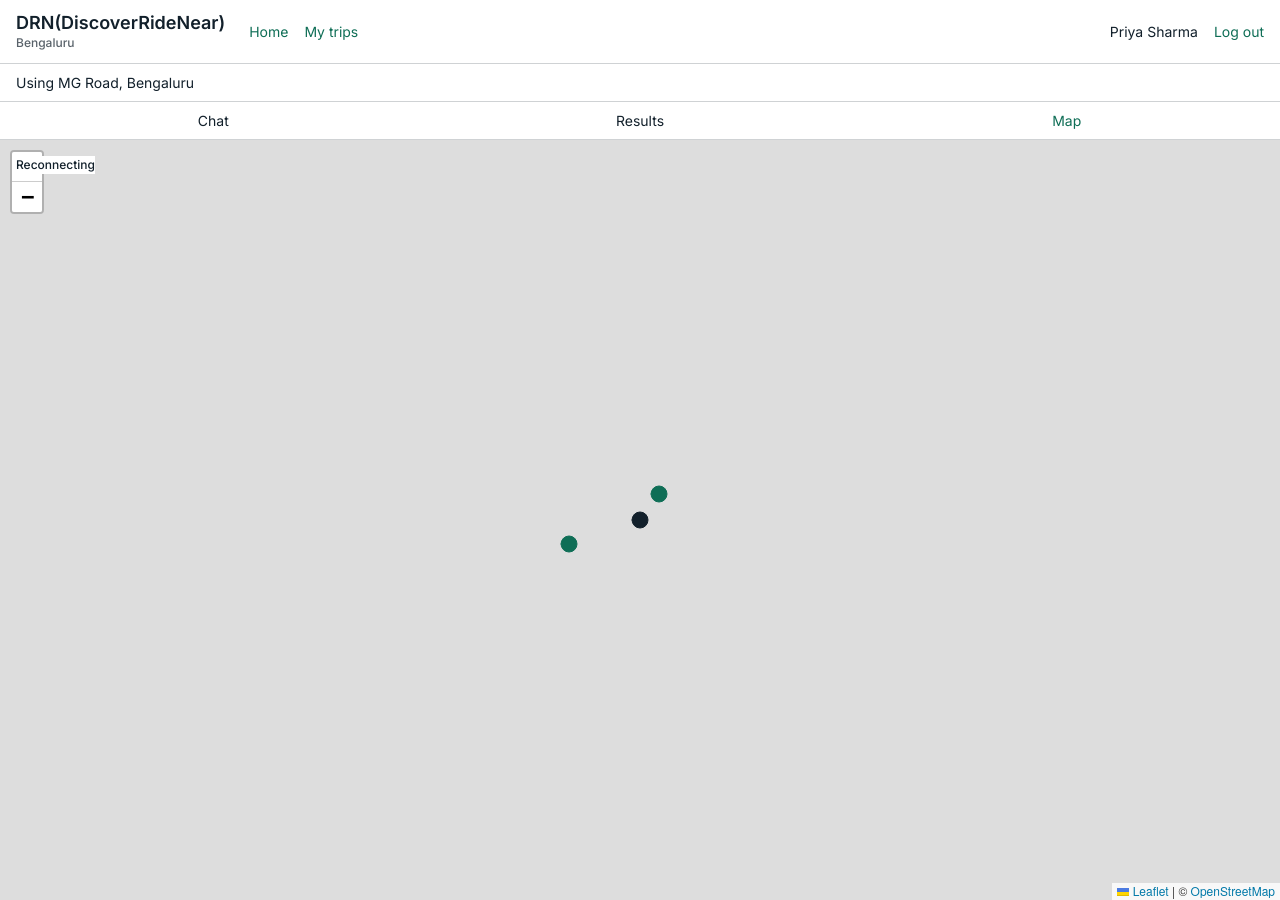
home map › shows Chat, Results, and Map tabs on a narrow screen with Map first
Click the tab "Results": (640, 120) left=427, top=102, right=853, bottom=139
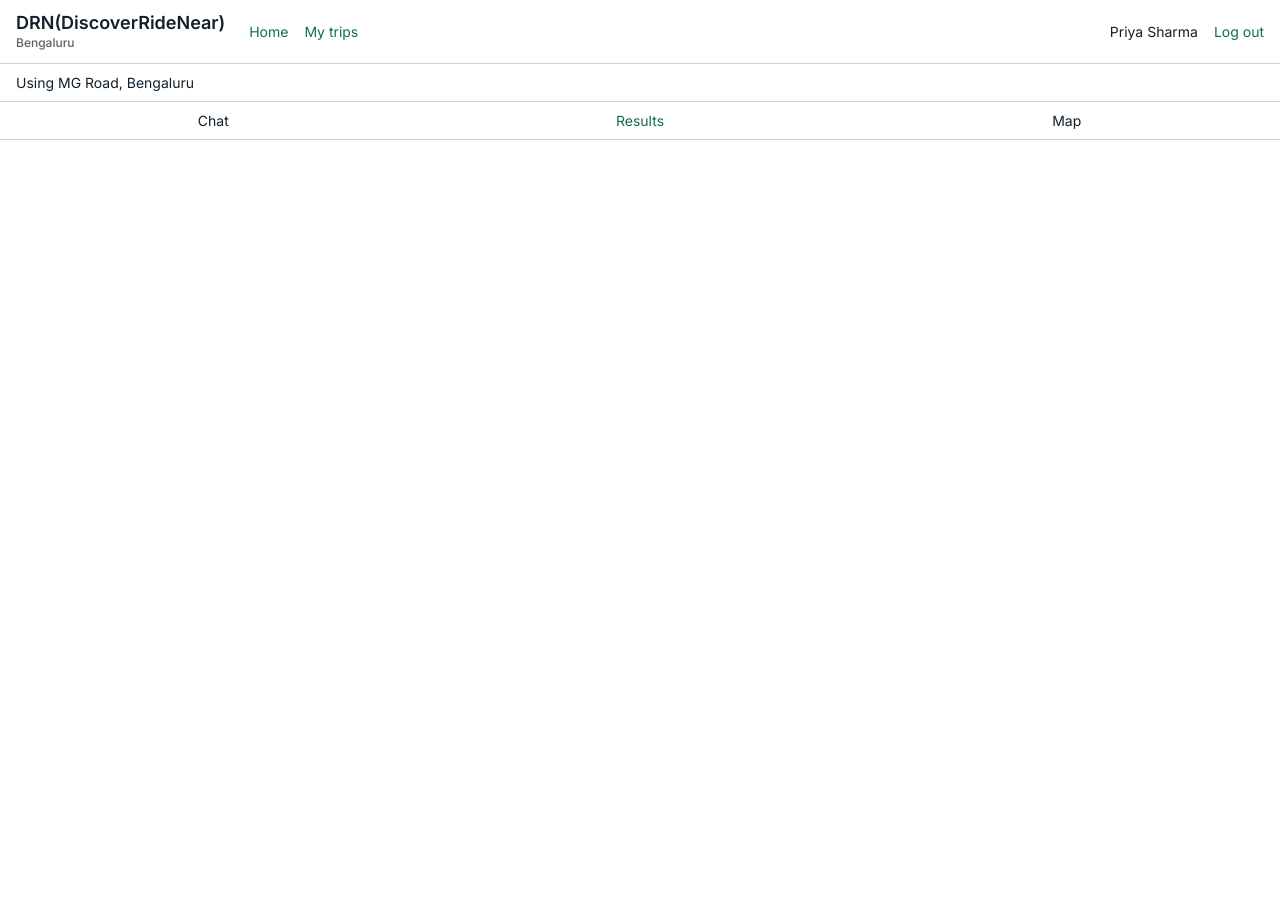
Expected: the list with test id "results-list" shows "2022 Hyundai Creta"
Expected: the list with test id "results-list" shows "₹2800/day"
Expected: the list with test id "results-list" shows "1.2 km"
Click the tab "Chat": (213, 120) left=0, top=102, right=427, bottom=139
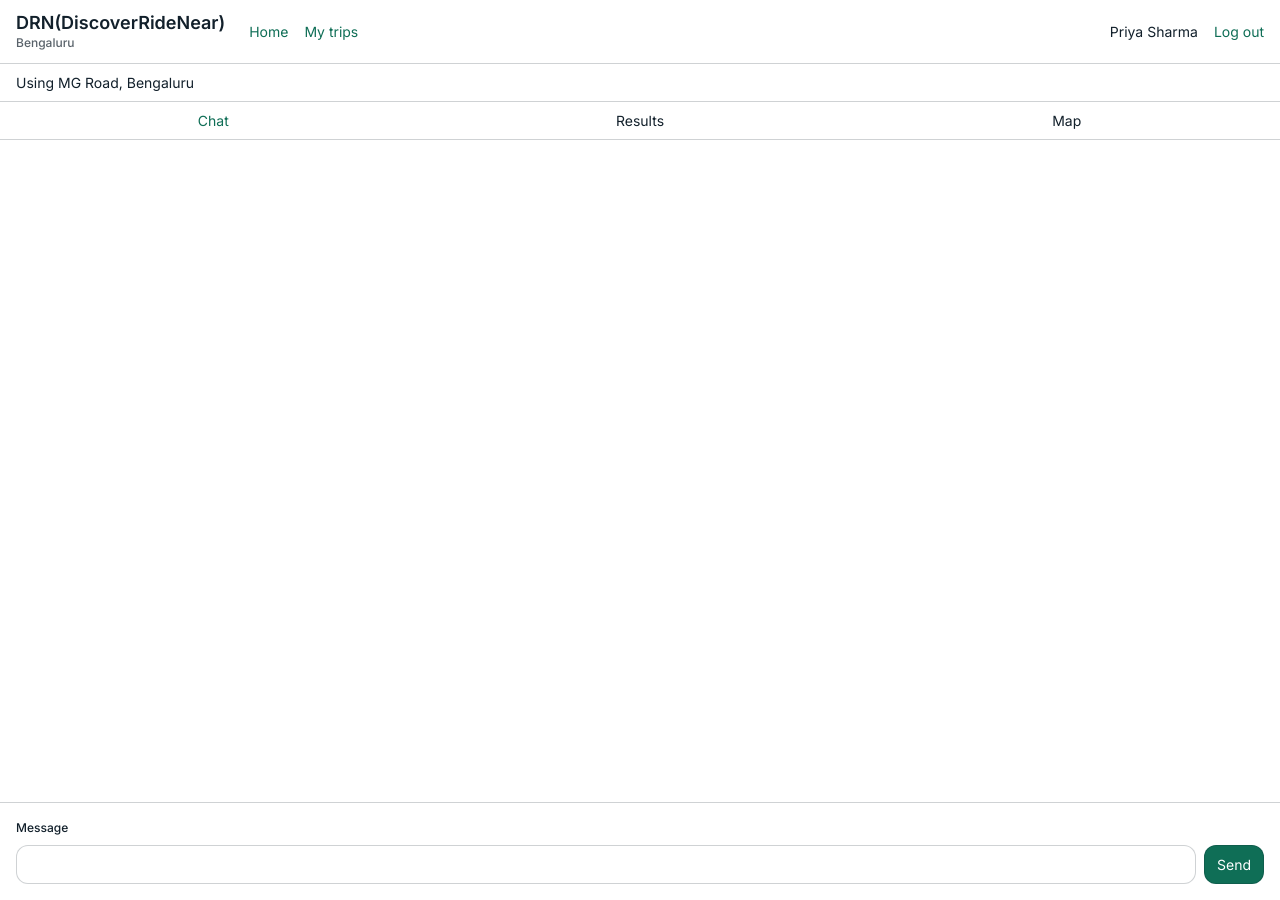
Expected: the element with test id "chat-panel" is shown
Expected: the field labelled "Message" is shown, left=16, top=845, right=1196, bottom=884
Expected: the button "Send" is shown, left=1204, top=845, right=1264, bottom=884
